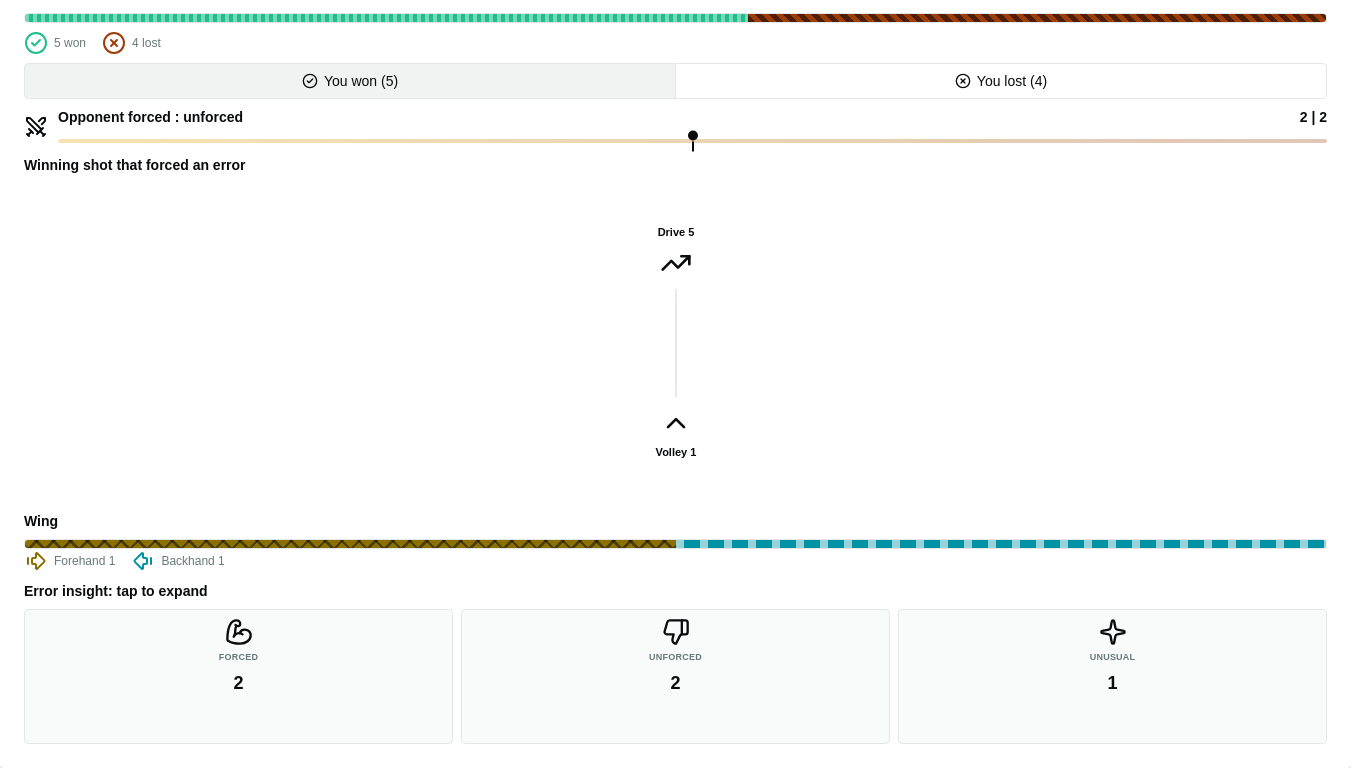
Scenario: tapping a style card opens its drill
This screenshot has width=1366, height=768.
(page scrolled)
Click the button "Forced 2".
click(238, 676)  # box [24,609,453,744]
(page scrolled)
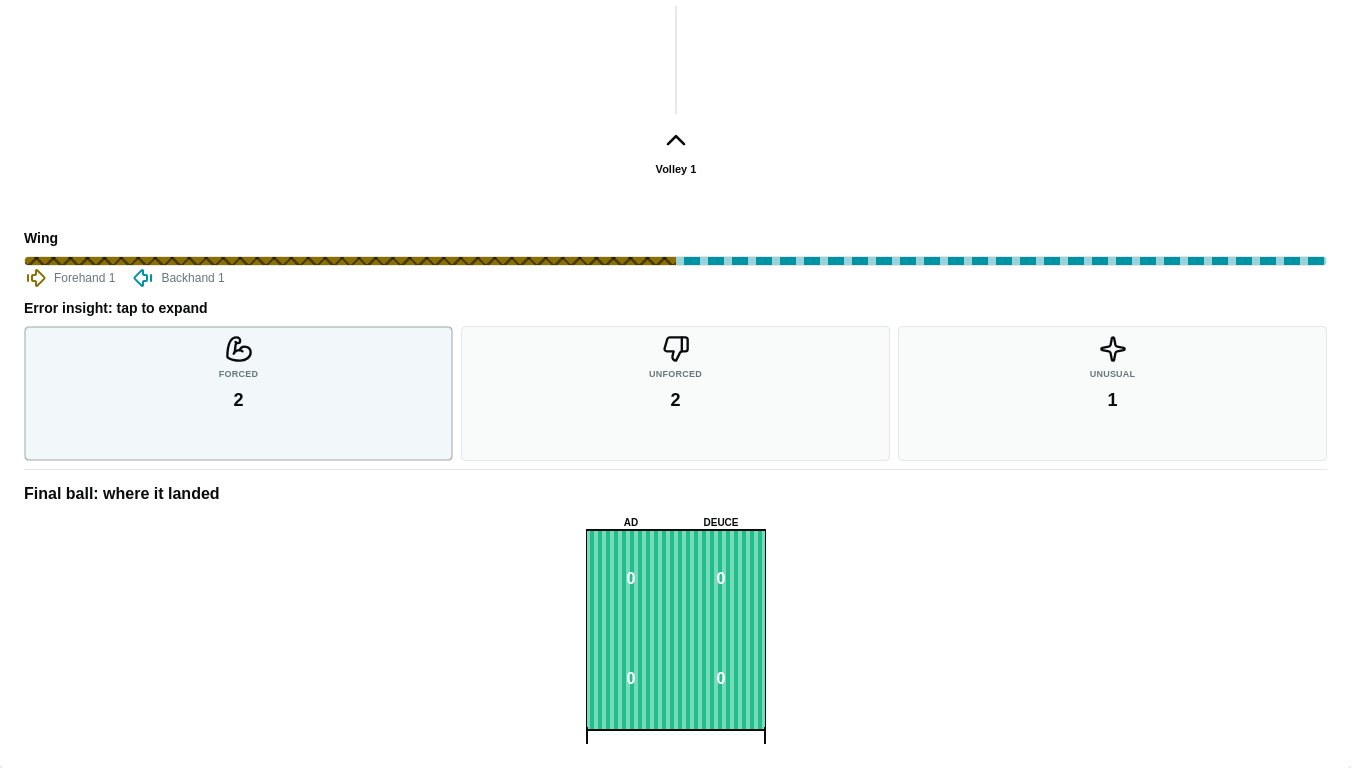
Check: the text "Final ball: where it landed" is shown, box [24,485,220,502]
